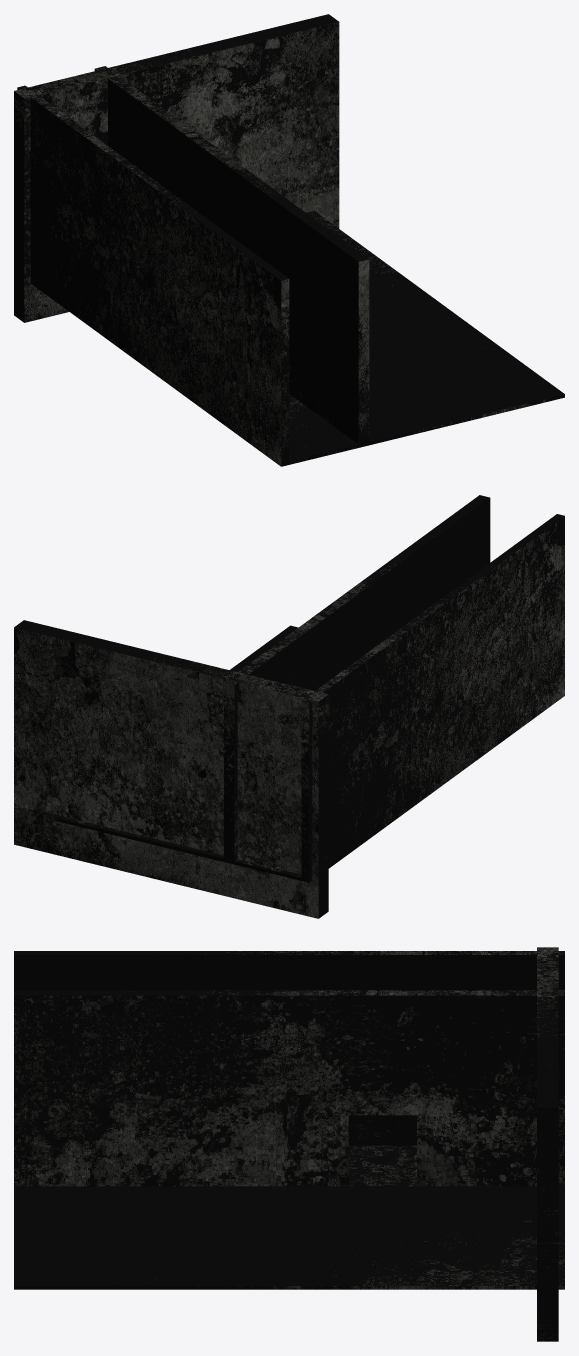
File: padernglogin.glb
3 renders of one model, top to bottom at view 1: azimuth 30°, elevation 25°; view 2: azimuth 150°, elevation 25°; view 3: azimuth 270°, elevation 25°, orthographic. The views are drawn at different scales.
Visible parts, largest first — view 1: Cube; view 2: Cube; view 3: Cube.
Boxes of the visible parts, x1,y1,x2,y2 form: Cube: (14,14,564,466); Cube: (14,495,564,918); Cube: (14,947,564,1341).
Size of the model in its own units: 10.73 by 7.31 by 15.59.
Materials: 1 (1 with a texture image).
